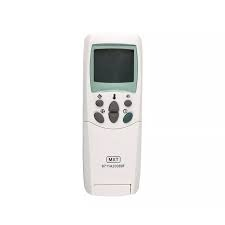remote control: (80, 25, 145, 201)
